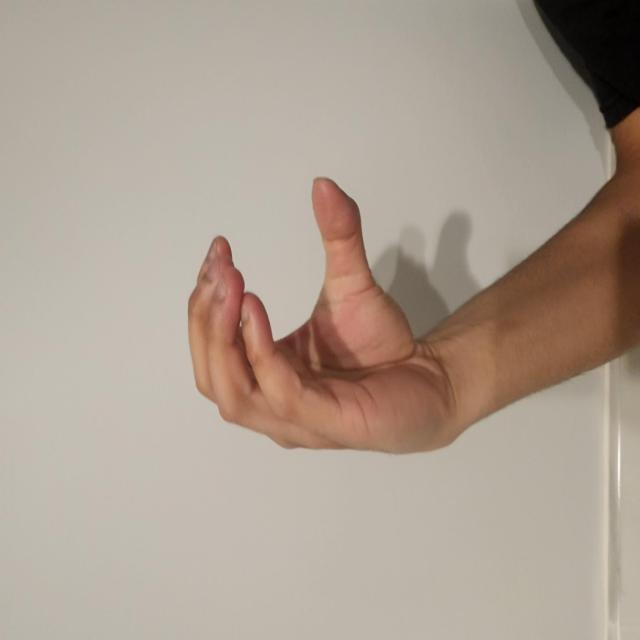C: (133, 246, 355, 612)
